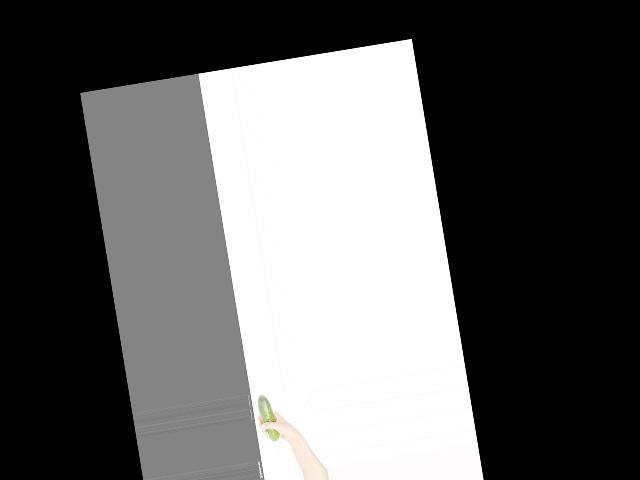cucumber: (255, 392, 280, 442)
